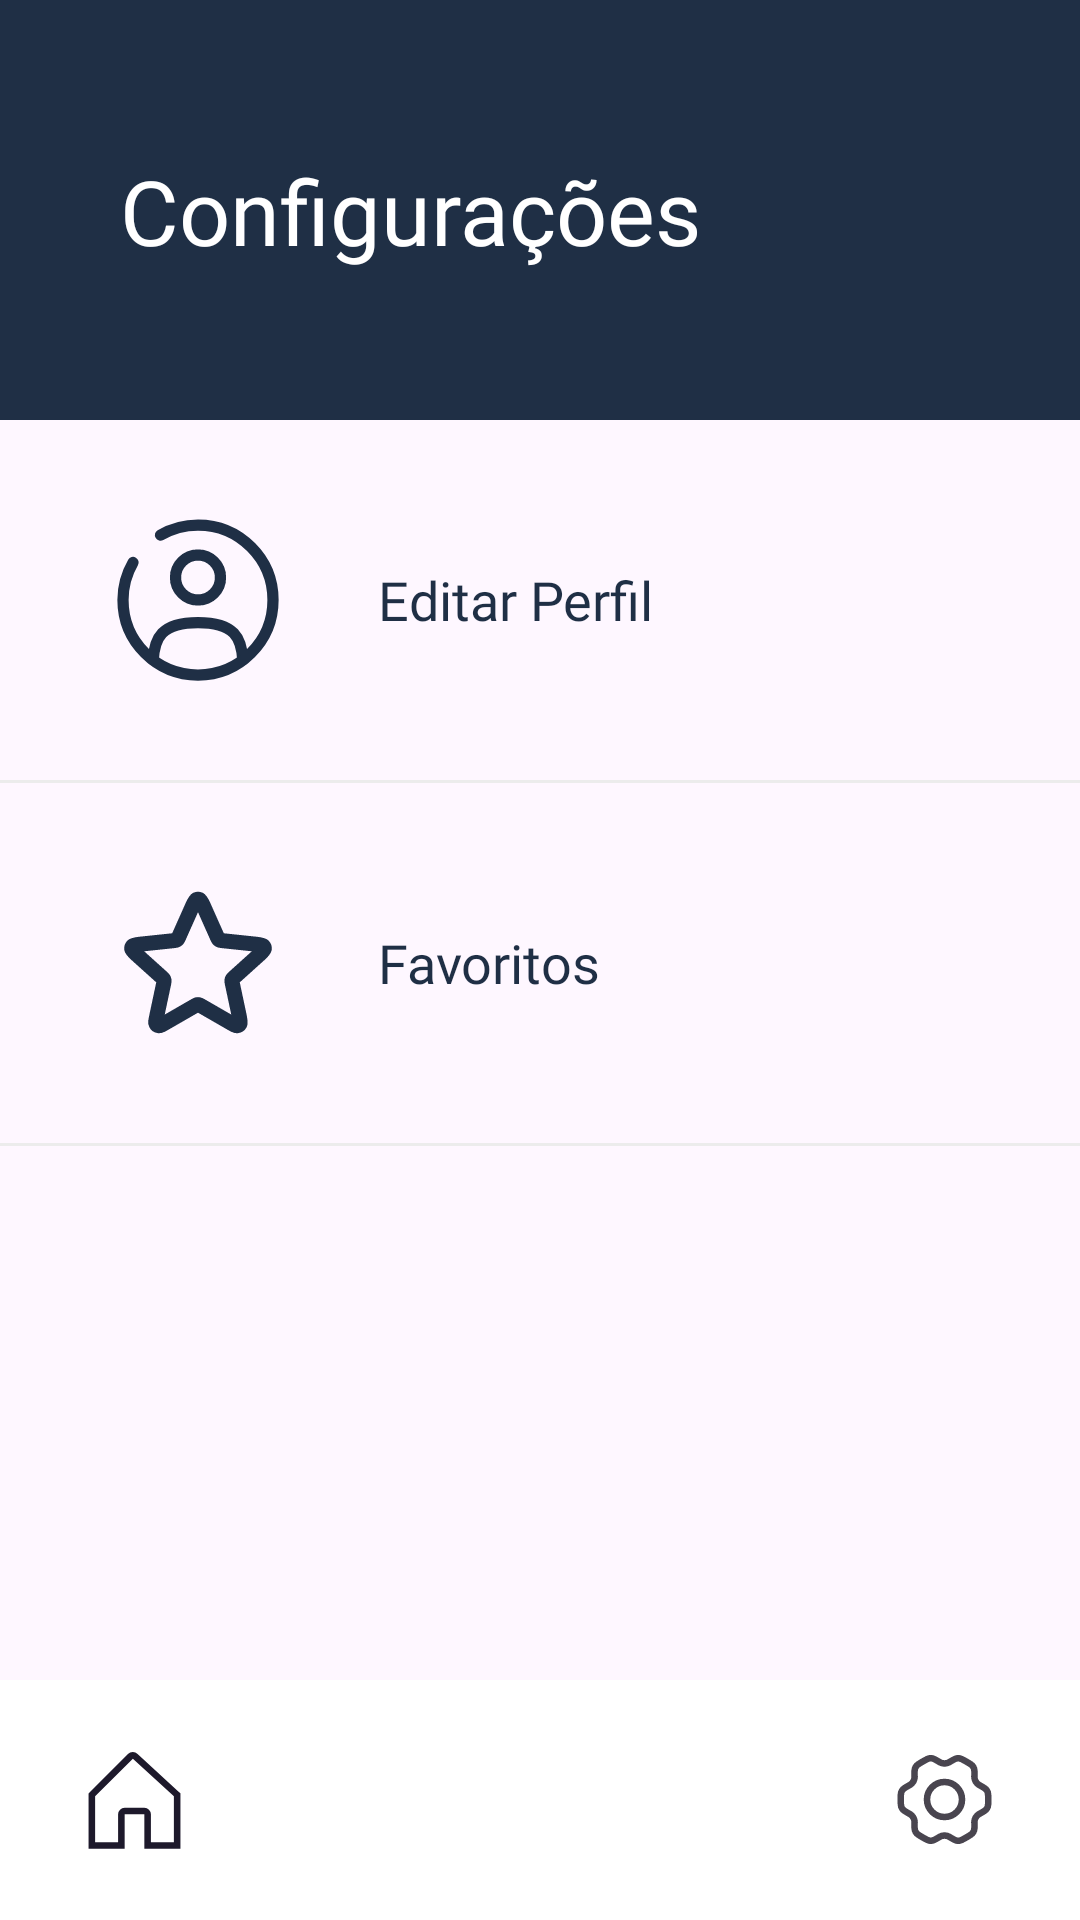

Screen size 1080 × 1920. Icon name, then its center in pixels as (x=x, y=y):
estrela vazia: (x=198, y=962)
user: (x=198, y=600)
